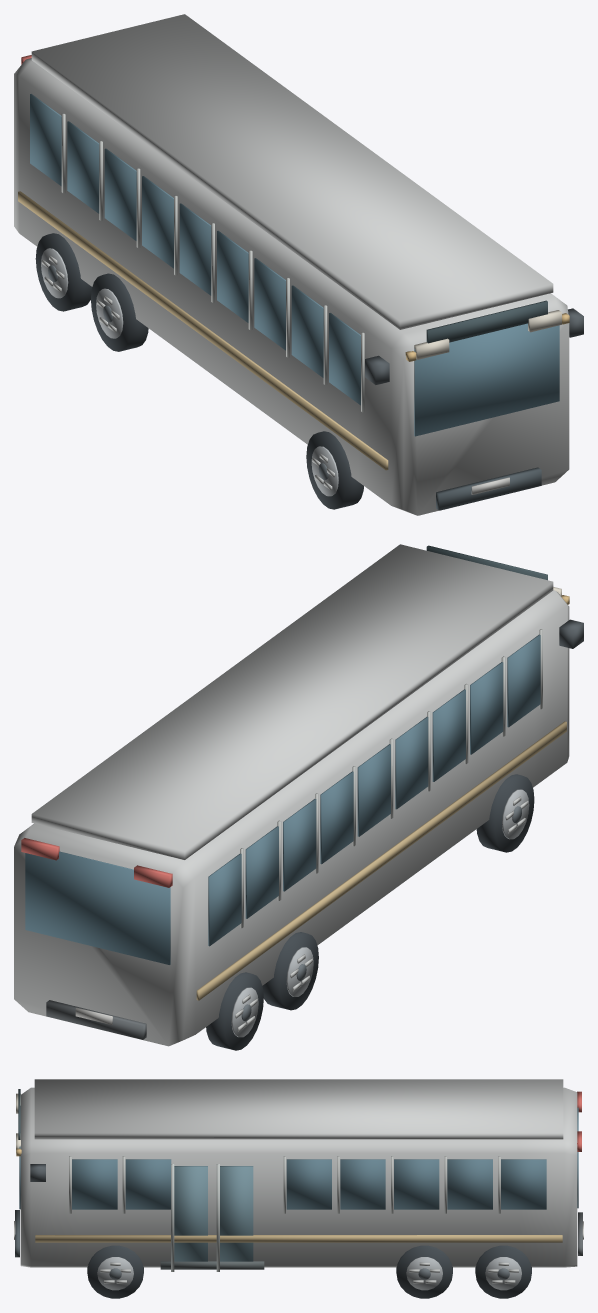
File: bus.glb
3 views of the same model, one above another, from view 1: azimuth 30°, elevation 25°; view 2: azimuth 150°, elevation 25°; view 3: azimuth 270°, elevation 25° (orthographic). The views are drawn at different scales.
Parts seen in each view (by area): view 1: paint, glass, trim, wheel_1_L, wheel_2_L, wheel_0_L, headlights; view 2: paint, glass, trim, wheel_0_L, wheel_2_L, wheel_1_L, taillights; view 3: paint, glass, trim, wheel_0_R, wheel_1_R, wheel_2_R.
Boxes of the visible parts, x1,y1,x2,y2 form: paint: (14, 14, 569, 515); glass: (30, 94, 559, 436); trim: (61, 113, 583, 510); wheel_1_L: (91, 273, 148, 351); wheel_2_L: (306, 431, 363, 509); wheel_0_L: (35, 233, 92, 311); headlights: (414, 310, 561, 359); paint: (14, 544, 569, 1046); glass: (25, 634, 540, 964); trim: (46, 545, 583, 1039); wheel_0_L: (206, 972, 263, 1050); wheel_2_L: (476, 774, 534, 852); wheel_1_L: (262, 932, 318, 1010); taillights: (21, 838, 172, 887); paint: (20, 1079, 577, 1267); glass: (19, 1107, 578, 1261); trim: (15, 1089, 582, 1271); wheel_0_R: (475, 1245, 531, 1298); wheel_1_R: (396, 1245, 452, 1298); wheel_2_R: (87, 1245, 143, 1298).
Bounding box in the file's own units: 2.99 × 3.05 × 9.89.
